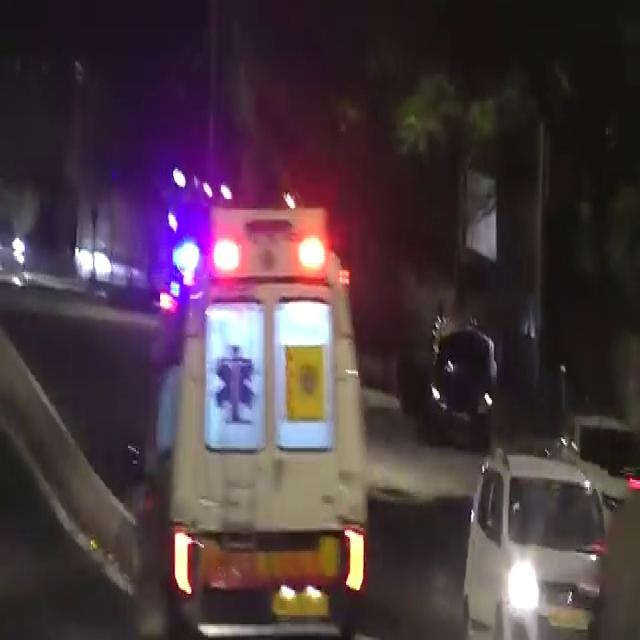ambulance: (177, 204, 386, 629)
